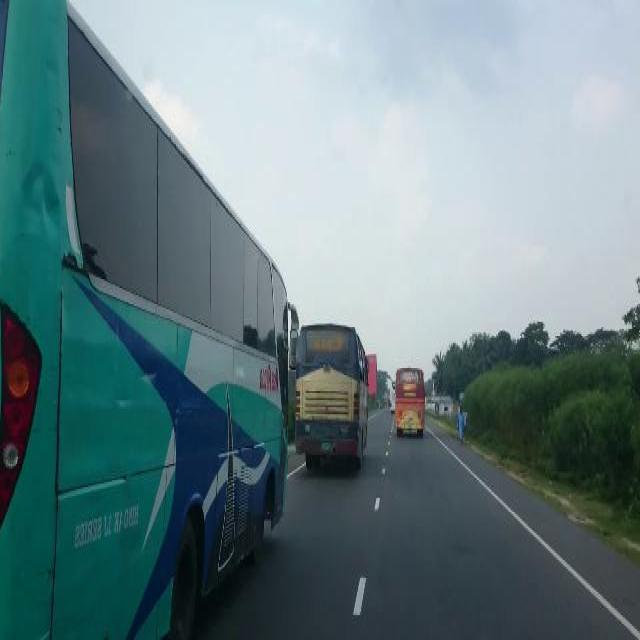Bus: (2, 1, 290, 639), (299, 319, 375, 478), (394, 360, 429, 443)
